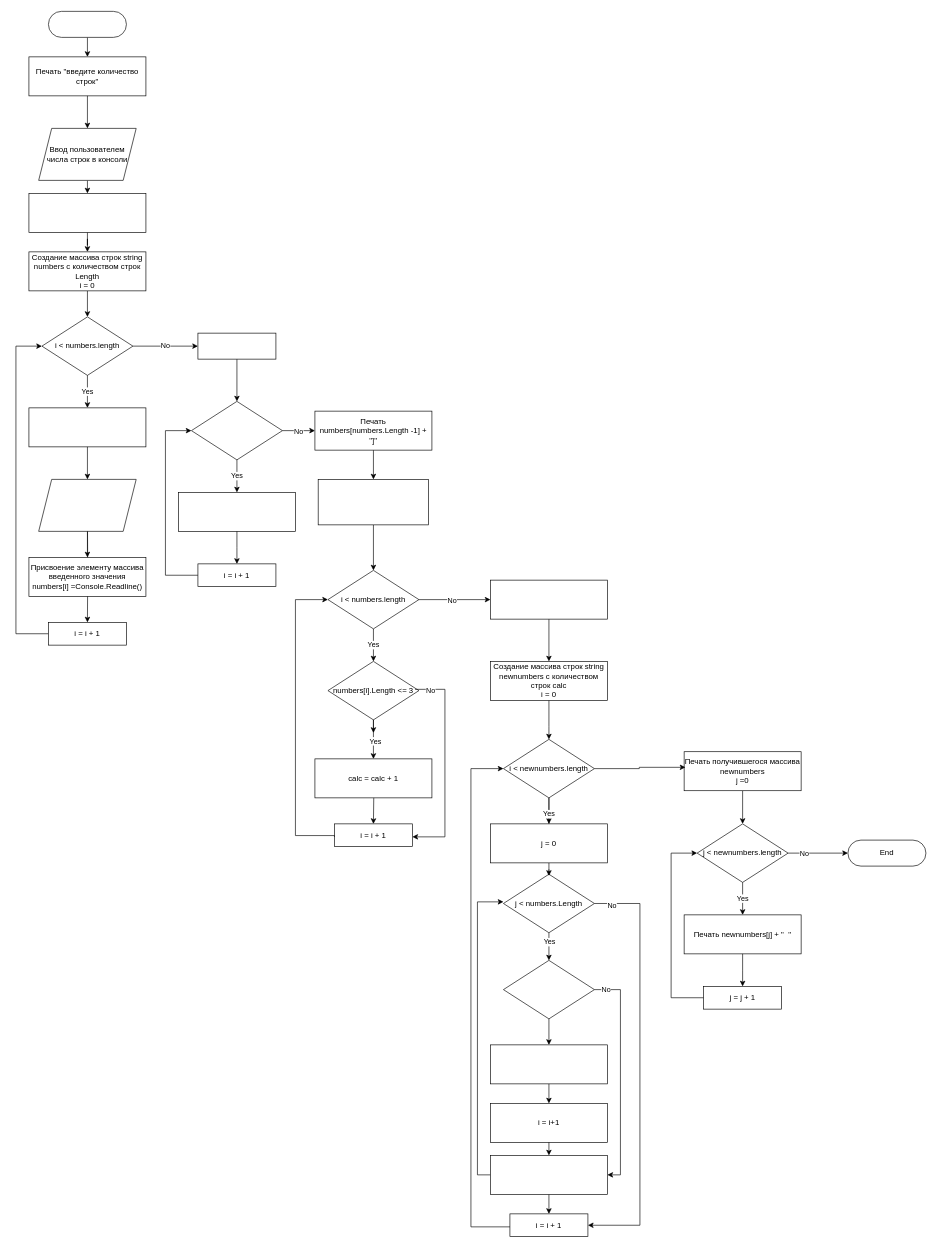
This 937x1248 diagram has some shape labels left out. The shapes that lost their labels are listed below. From the top down, each one's centre as x and y in pixels, then its label:
point (87, 24): Start
point (87, 212): Length = int.Parse.ConsoleReadline()
point (236, 345): Печать массива Печать "[" i = 0
point (87, 427): Печать "Введите строку"
point (236, 430): i < numbers.length - 1
point (87, 505): Ввод пользователем строки в консоли
point (236, 511): Печать numbers[i] + "; "
point (373, 502): Вычисление количества элементов нового массива calc = 0 i = 0
point (548, 599): Печать "Количество строк меньше трех равно" calc
point (548, 989): numbers[j].Length <= 3
point (548, 1064): newnumbers[i] = numbers[j]
point (548, 1174): j = j+1
